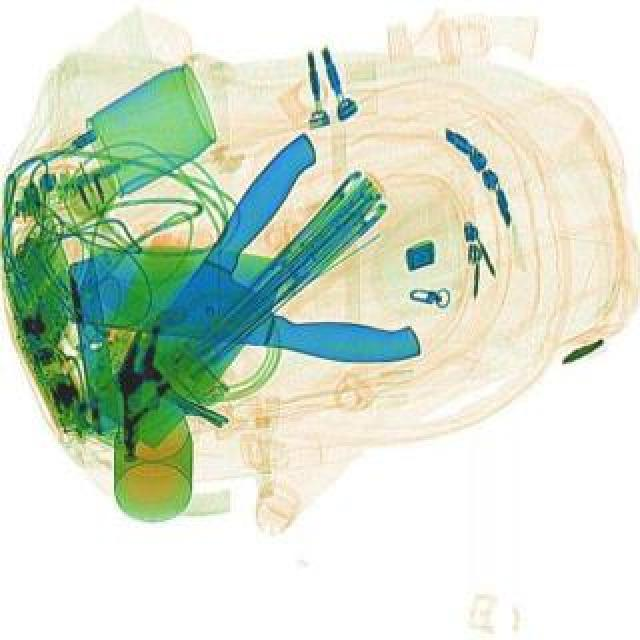knife: (82, 128, 370, 454), (74, 238, 426, 368)
